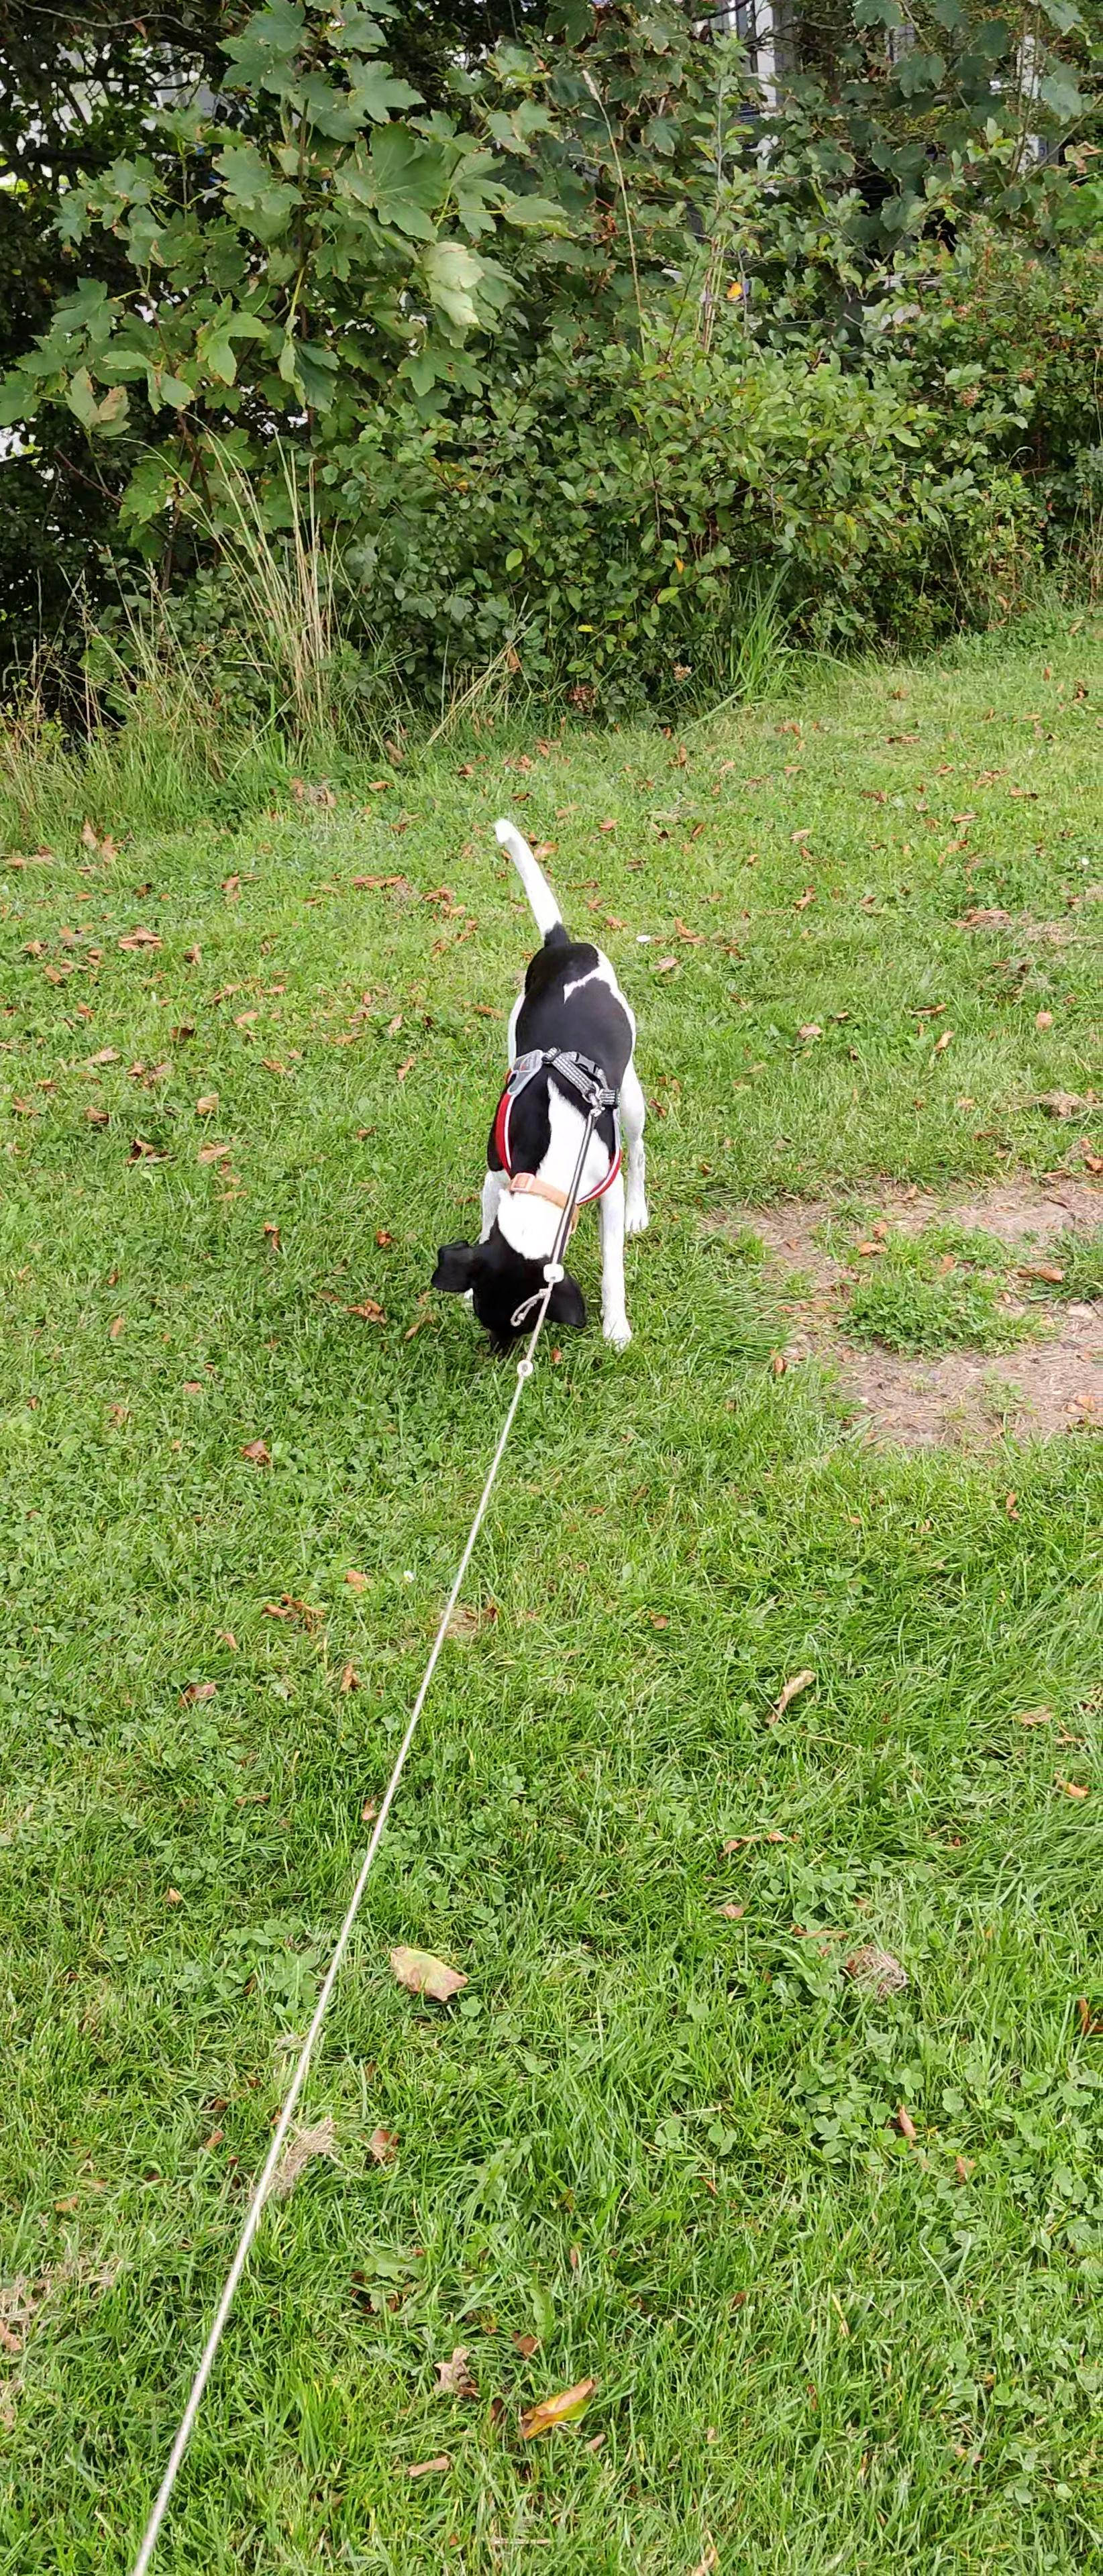Dog: (431, 807, 659, 1360)
